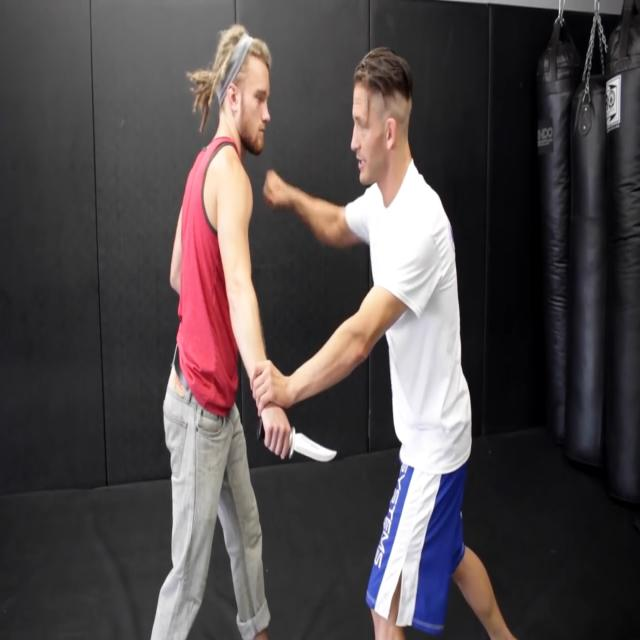knife: (257, 421, 341, 467)
